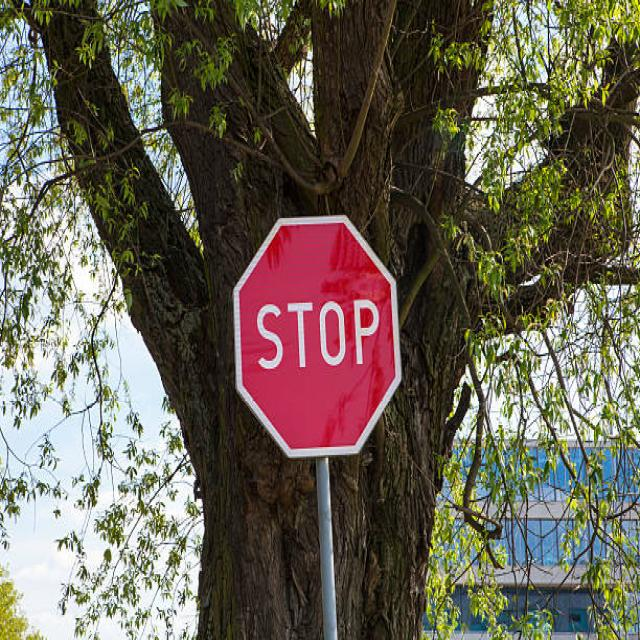stop: (227, 204, 407, 472)
